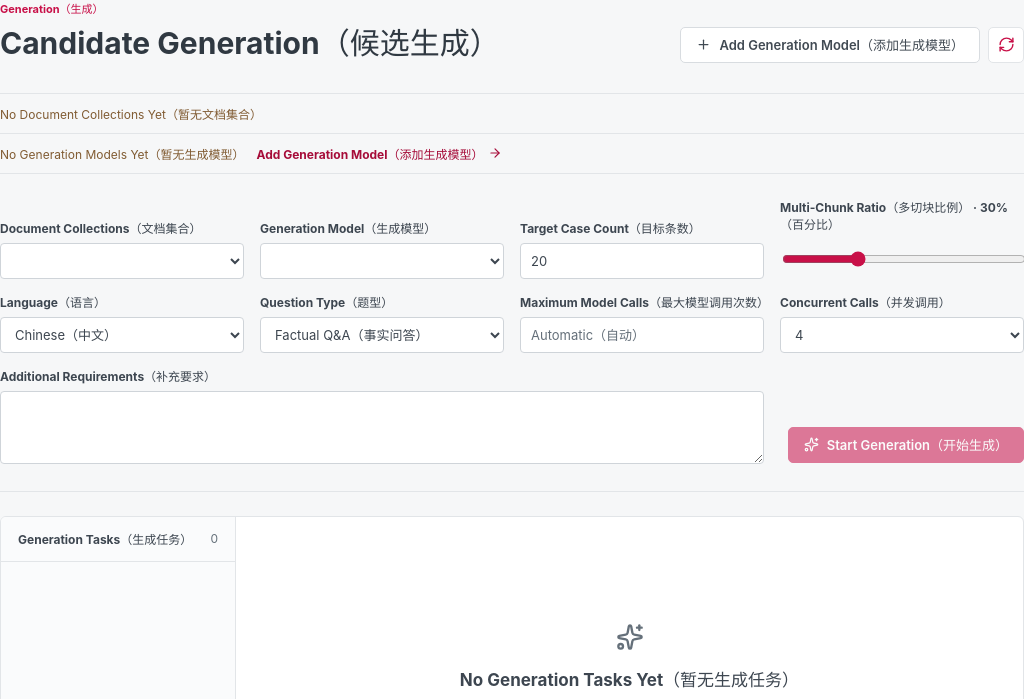
Test case: keeps model details editable when remote verification fails
The width and height of the screenshot is (1024, 699).
Expected: the text "No Generation Models Yet（暂无生成模型）" is shown, top-left (0, 144), bottom-right (244, 162)
Click the button "Add Generation Model（添加生成模型）" in the row of "Candidate Generation（候选生成）" at point(830, 44), box top-left (680, 26), bottom-right (980, 62)
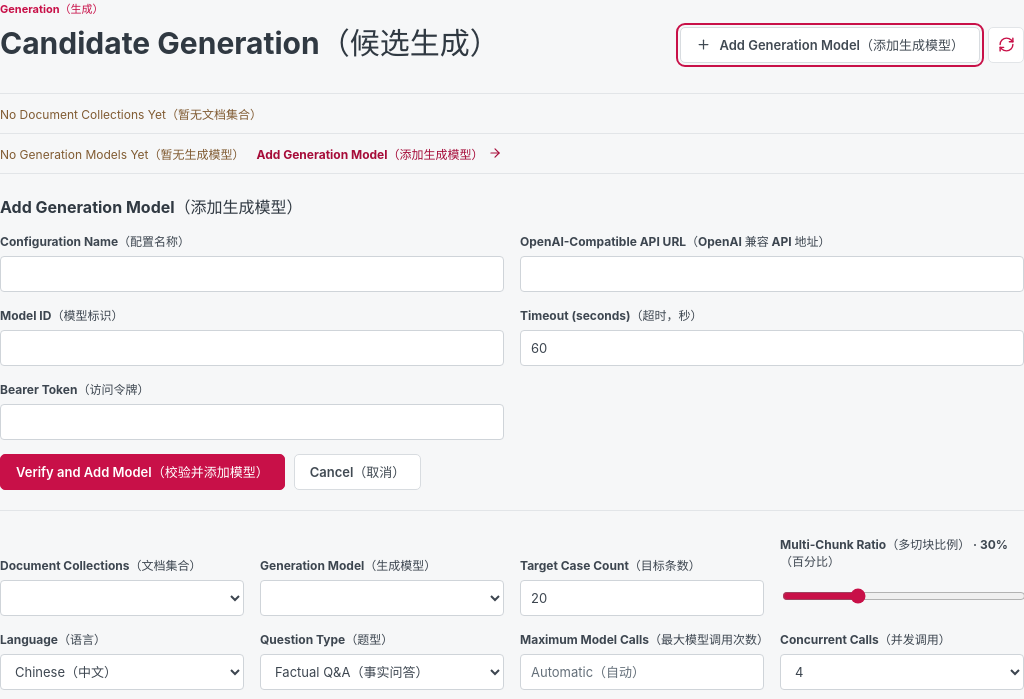
Type "Test" into the field labelled "Configuration Name（配置名称）" at point(252, 274), box top-left (0, 256), bottom-right (504, 292)
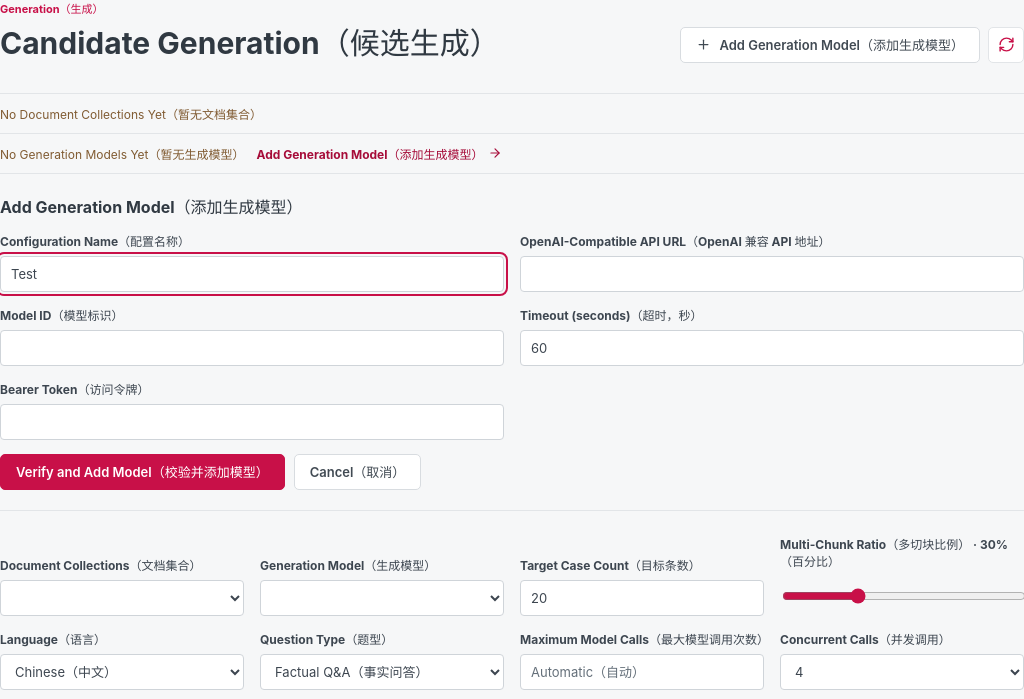
Type "https://model.test/v1" into the field labelled "OpenAI-Compatible API URL（OpenAI 兼容 API 地址）" at point(772, 274), box top-left (520, 256), bottom-right (1023, 292)
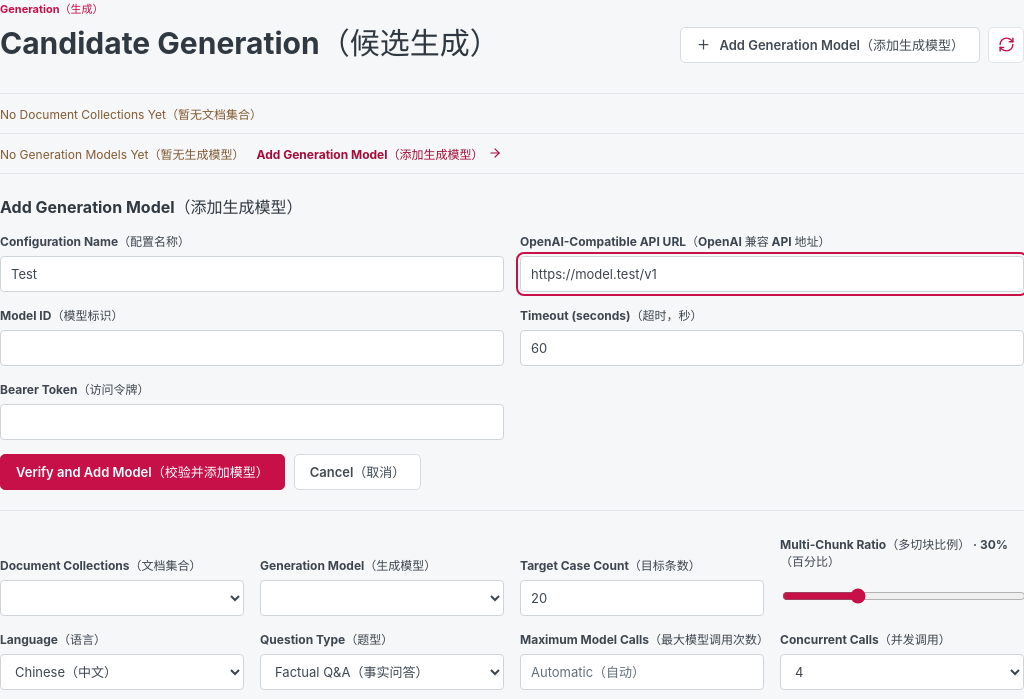
Type "missing" into the field labelled "Model ID（模型标识）" at point(252, 348), box top-left (0, 330), bottom-right (504, 366)
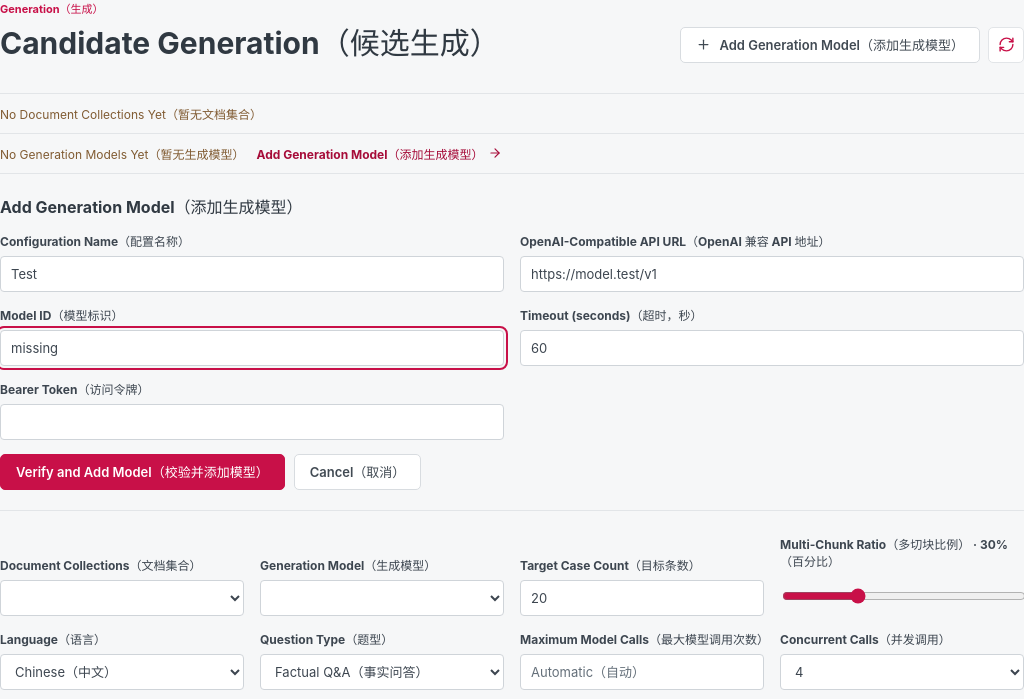
Click the button "Verify and Add Model（校验并添加模型）" at point(142, 472), box top-left (0, 454), bottom-right (285, 490)
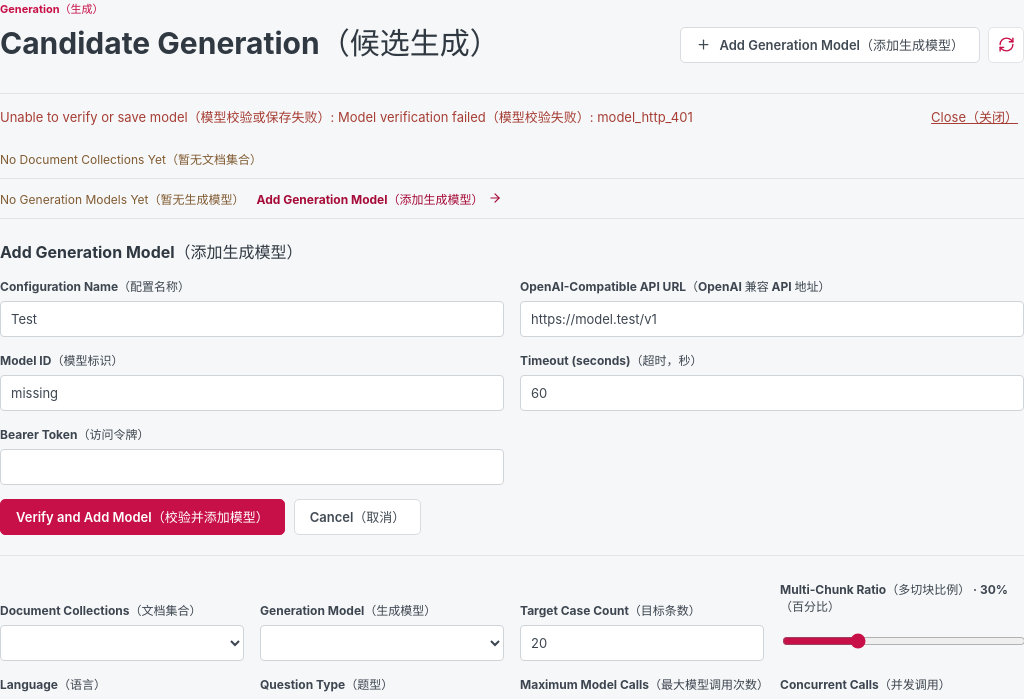
Now the 1st message is shown, box top-left (0, 106), bottom-right (1023, 126)
Now the 1st message shows "model_http_401", box top-left (0, 108), bottom-right (693, 124)
